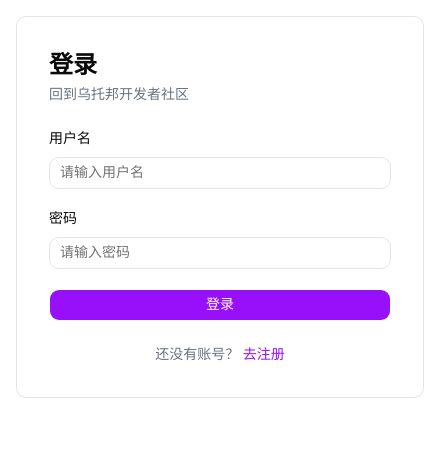
Test: 登录页面 › 用户名密码为空时，提示错误且不调 login
Click the button "登录" at (220,305), box [49,289,391,321]
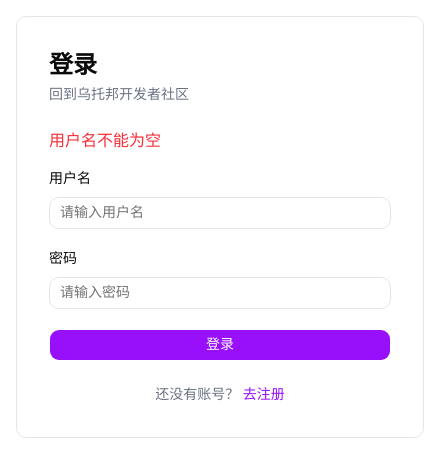
expect the text "用户名不能为空" is shown: met, box [49,132,161,149]
